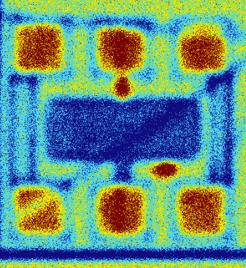Pad 3: (96, 186, 144, 236), (14, 187, 64, 235), (14, 25, 63, 72), (178, 27, 227, 74), (177, 187, 223, 235), (96, 27, 144, 72)
